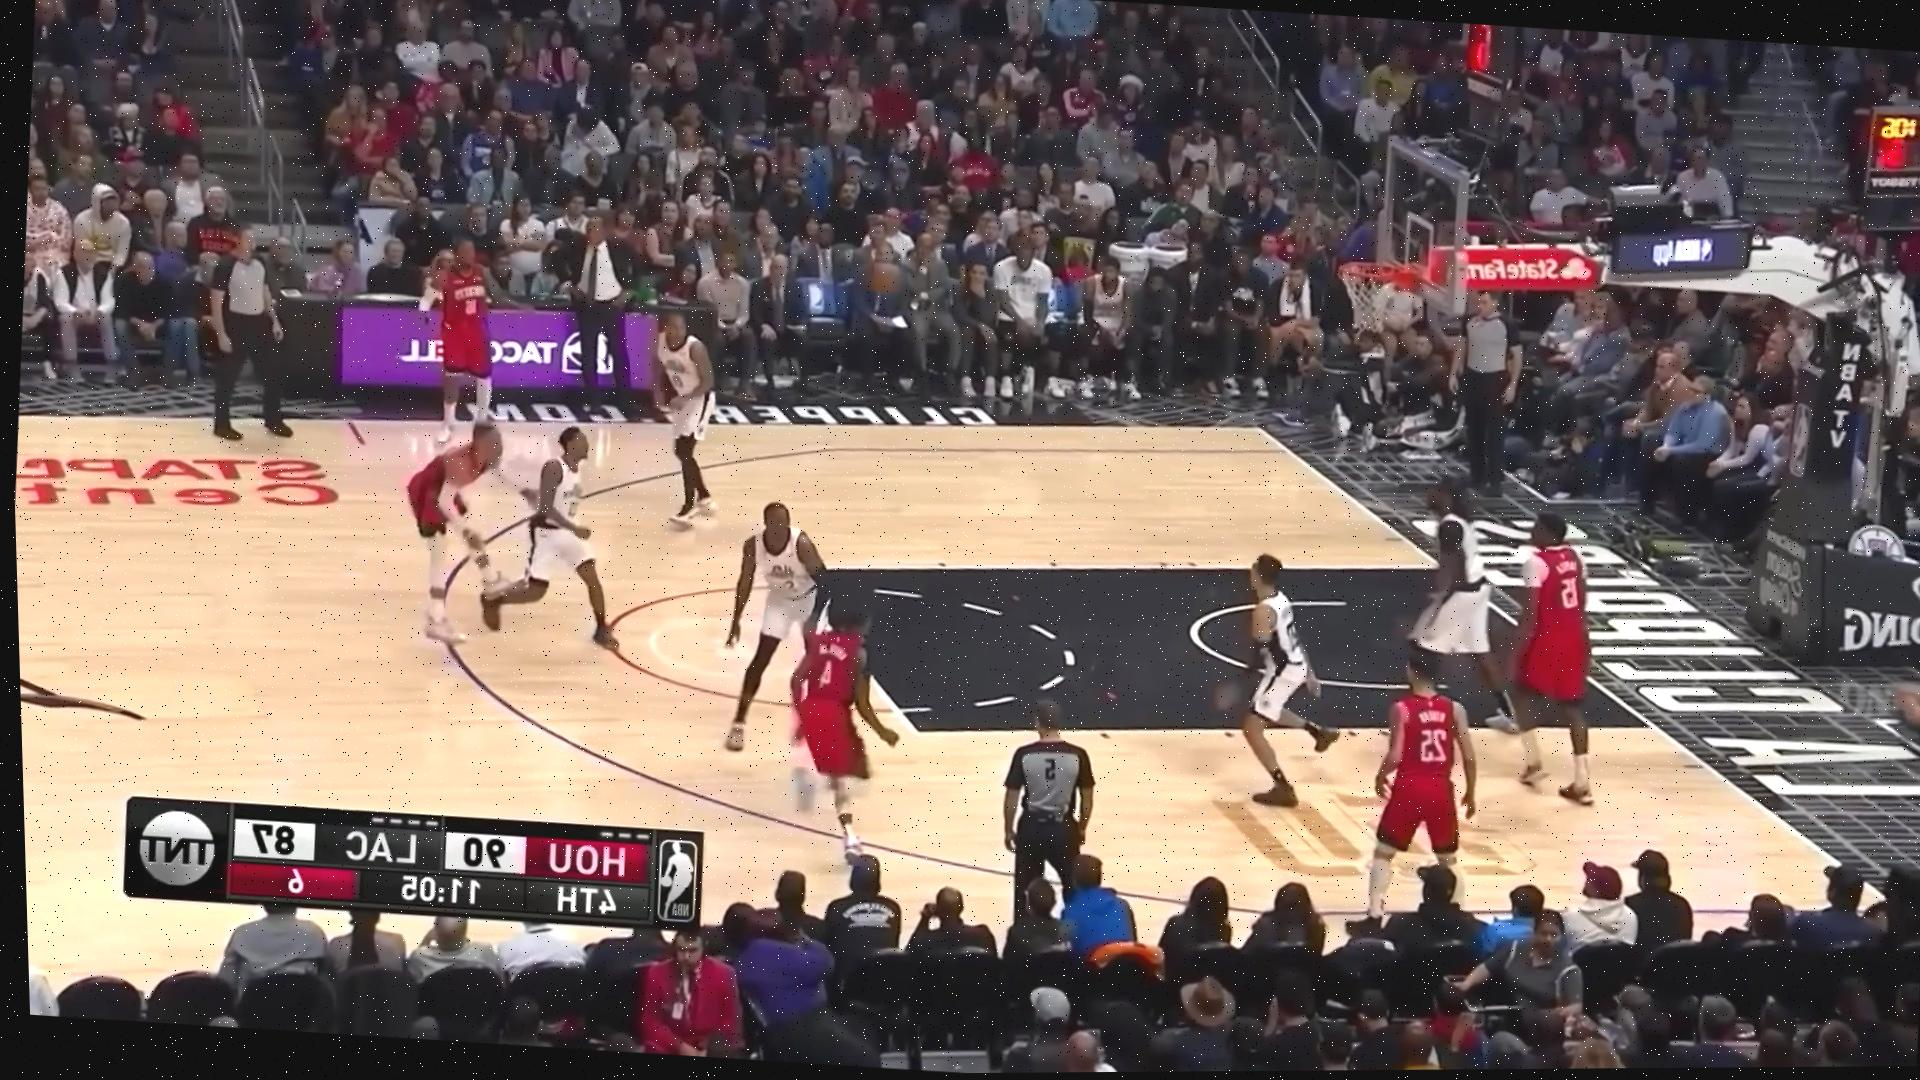no_foul: (351, 386, 647, 687)
